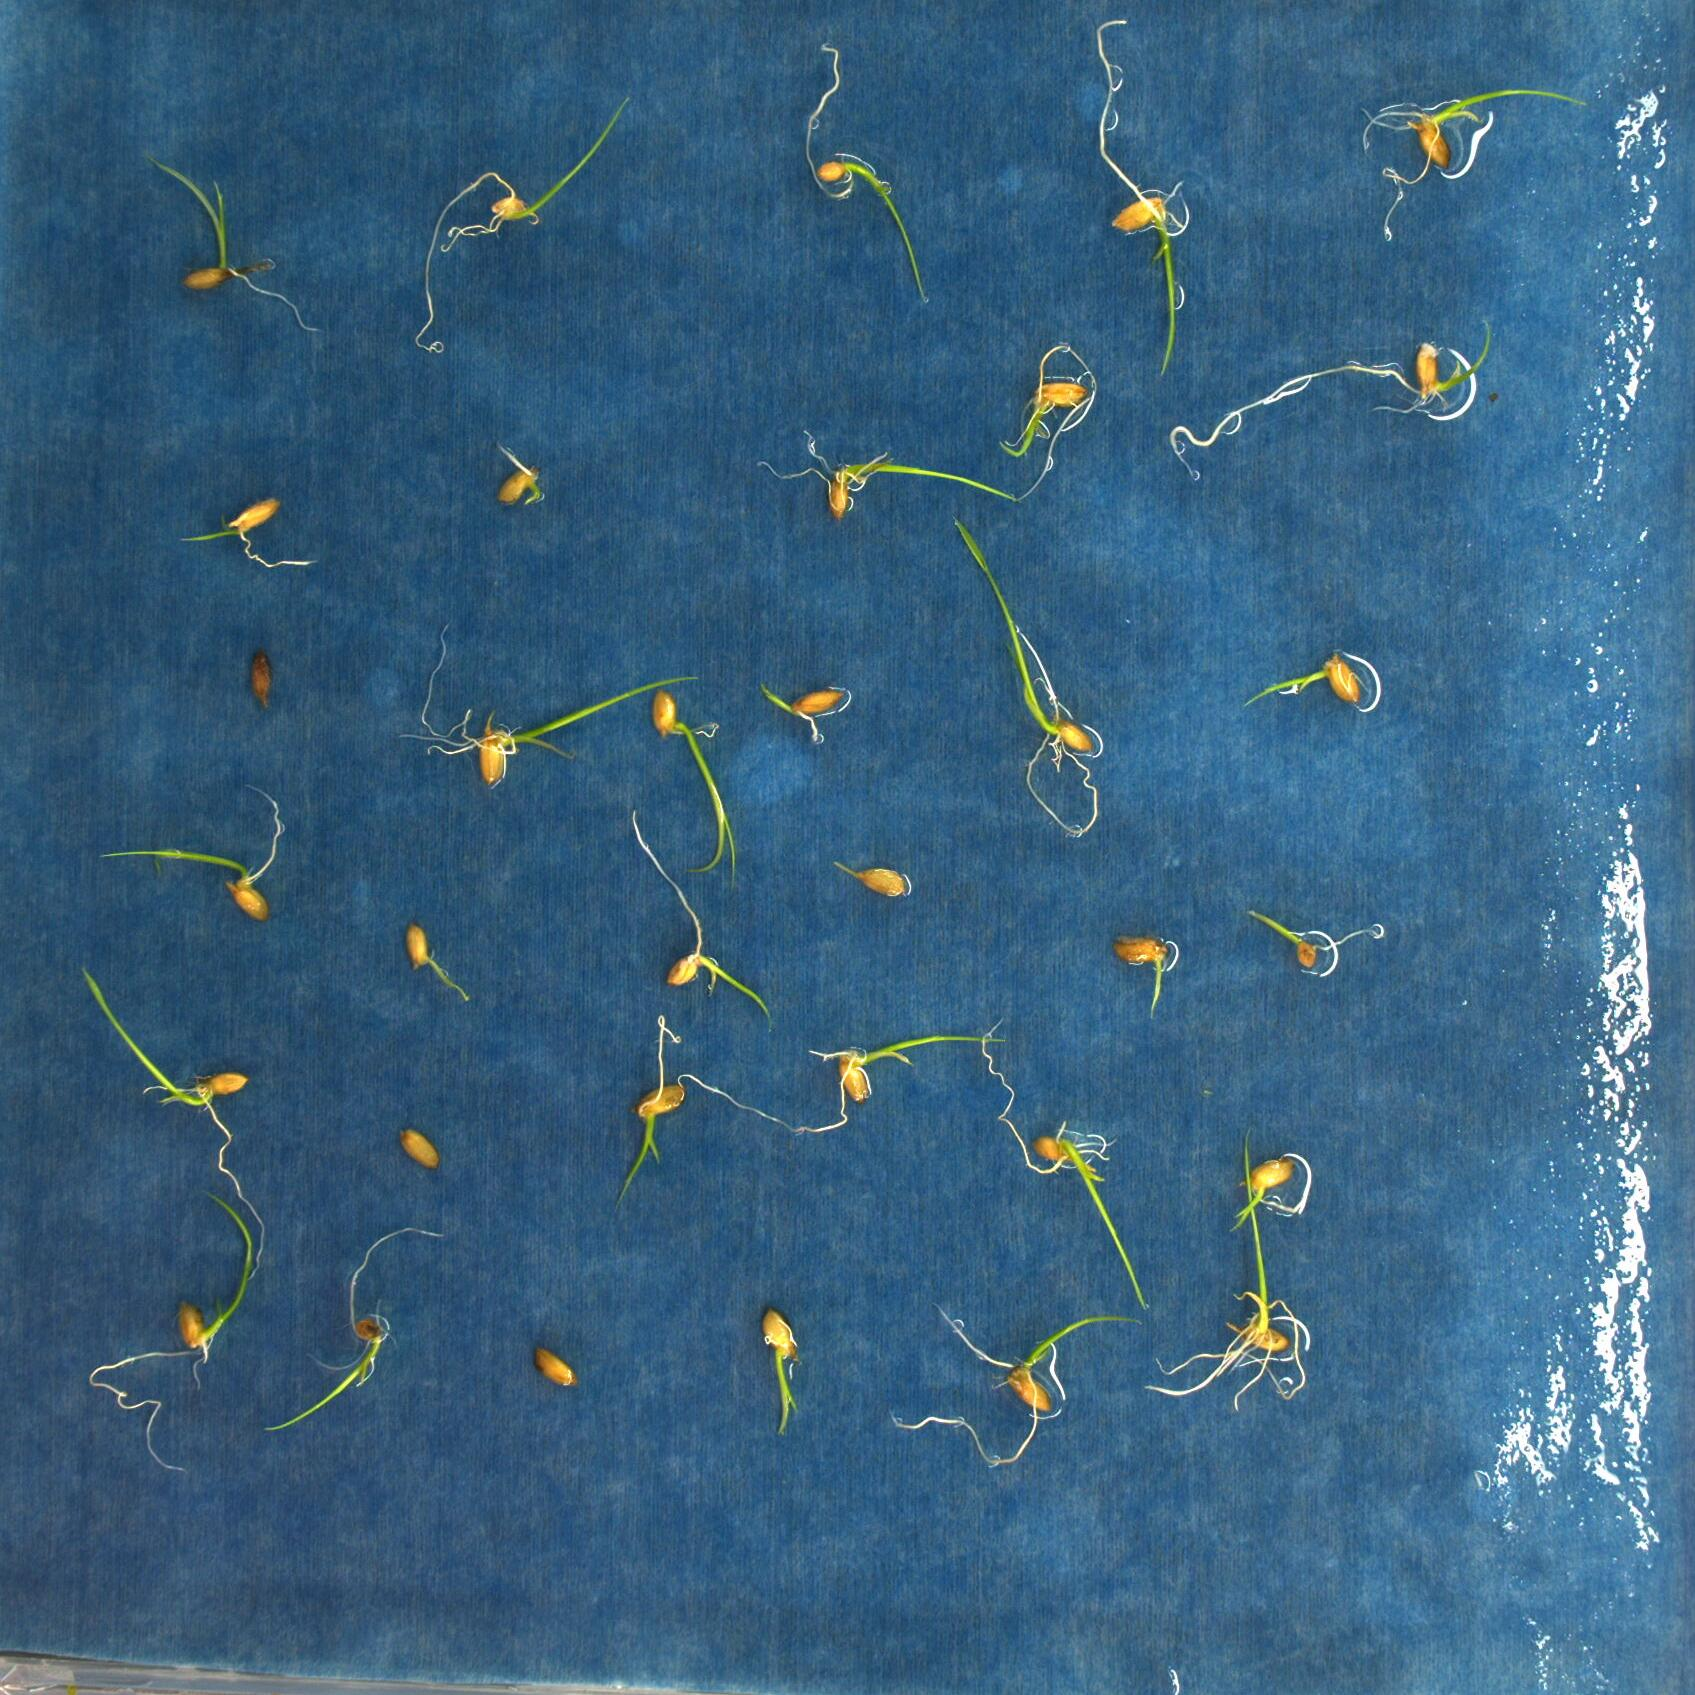not sprout: (393, 1125, 441, 1170), (528, 1343, 576, 1388), (244, 653, 273, 712)
sprout: (413, 92, 636, 352), (81, 967, 265, 1277), (1166, 312, 1492, 477), (979, 1015, 1152, 1315), (399, 626, 703, 792), (948, 512, 1101, 840), (82, 1192, 256, 1471), (1146, 1124, 1315, 1408), (885, 1302, 1149, 1461), (265, 1222, 449, 1426), (1360, 81, 1585, 241), (618, 1015, 807, 1197), (1093, 16, 1187, 376), (627, 812, 778, 1032), (806, 43, 931, 307), (155, 161, 323, 337), (99, 785, 284, 924), (753, 432, 1024, 517), (806, 1032, 1010, 1135), (652, 691, 747, 885), (1001, 345, 1097, 495), (179, 501, 312, 565), (1243, 903, 1380, 965), (1246, 652, 1369, 712), (1229, 1133, 1305, 1225), (754, 677, 849, 745), (400, 924, 470, 1004), (761, 1309, 802, 1434), (1113, 934, 1169, 1017), (827, 861, 905, 903), (501, 452, 539, 504)
